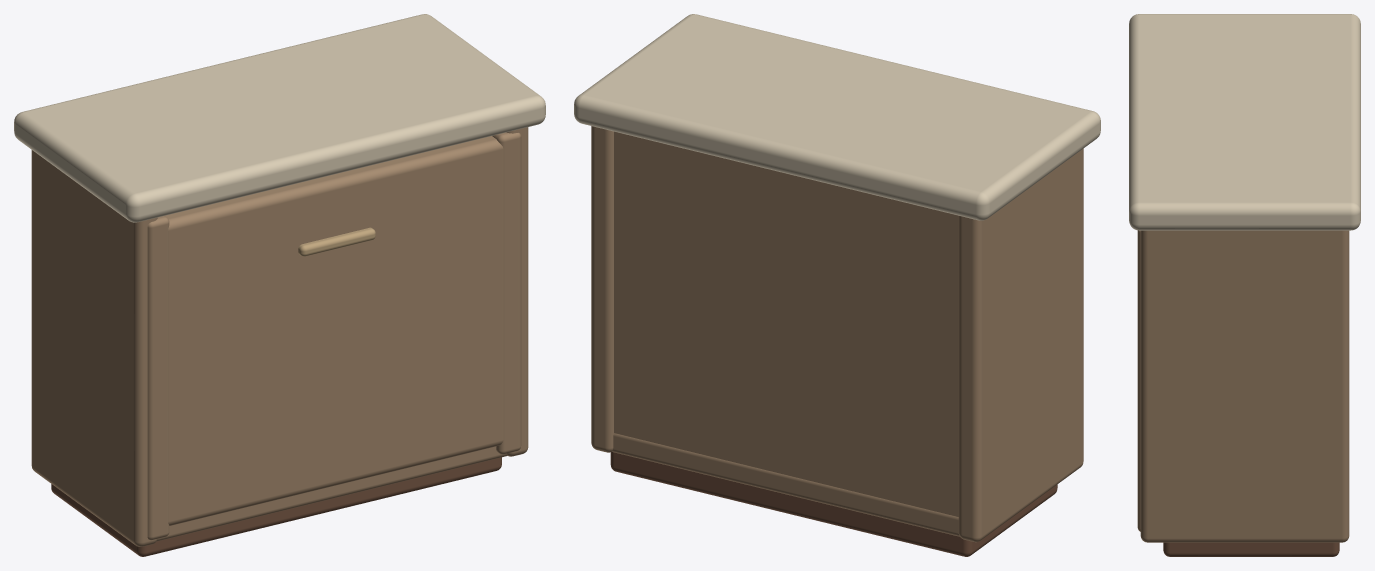
Rendered from counter.glb.
3 views of the same model, side by side, from view 1: azimuth 30°, elevation 25°; view 2: azimuth 150°, elevation 25°; view 3: azimuth 270°, elevation 25° (orthographic). The views are drawn at different scales.
Visible parts, largest first — view 1: recessed-cupboard-door, stone-worktop, cupboard-case-side--1, front-stile--1, front-stile-1, recessed-grounded-plinth, cupboard-case-base, cupboard-case-side-1, cupboard-pull; view 2: cupboard-case-back, stone-worktop, cupboard-case-side--1, recessed-grounded-plinth, cupboard-case-side-1, cupboard-case-base; view 3: cupboard-case-side-1, stone-worktop, recessed-grounded-plinth, front-stile-1.
Part boxes in pixels (box(x1,y1,x2,y2)): recessed-cupboard-door: box(165, 136, 503, 525); stone-worktop: box(14, 14, 545, 222); cupboard-case-side--1: box(31, 150, 157, 546); front-stile--1: box(147, 216, 169, 540); front-stile-1: box(492, 132, 521, 454); recessed-grounded-plinth: box(51, 457, 501, 556); cupboard-case-base: box(156, 446, 507, 541); cupboard-case-side-1: box(506, 127, 528, 456); cupboard-pull: box(298, 227, 375, 256); cupboard-case-back: box(614, 131, 958, 516); stone-worktop: box(574, 14, 1100, 220); cupboard-case-side--1: box(958, 148, 1083, 542); recessed-grounded-plinth: box(610, 452, 1057, 556); cupboard-case-side-1: box(591, 126, 613, 452); cupboard-case-base: box(612, 433, 959, 536); cupboard-case-side-1: box(1140, 230, 1349, 542); stone-worktop: box(1129, 14, 1360, 230); recessed-grounded-plinth: box(1163, 542, 1339, 556); front-stile-1: box(1137, 230, 1140, 531).
Bounding box in the file's own units: 1 × 0.8692 × 0.5.
